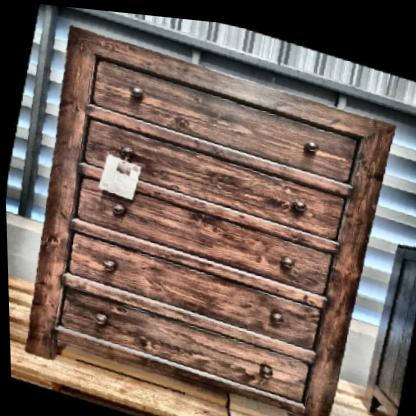Sideboard: (23, 24, 395, 416)
